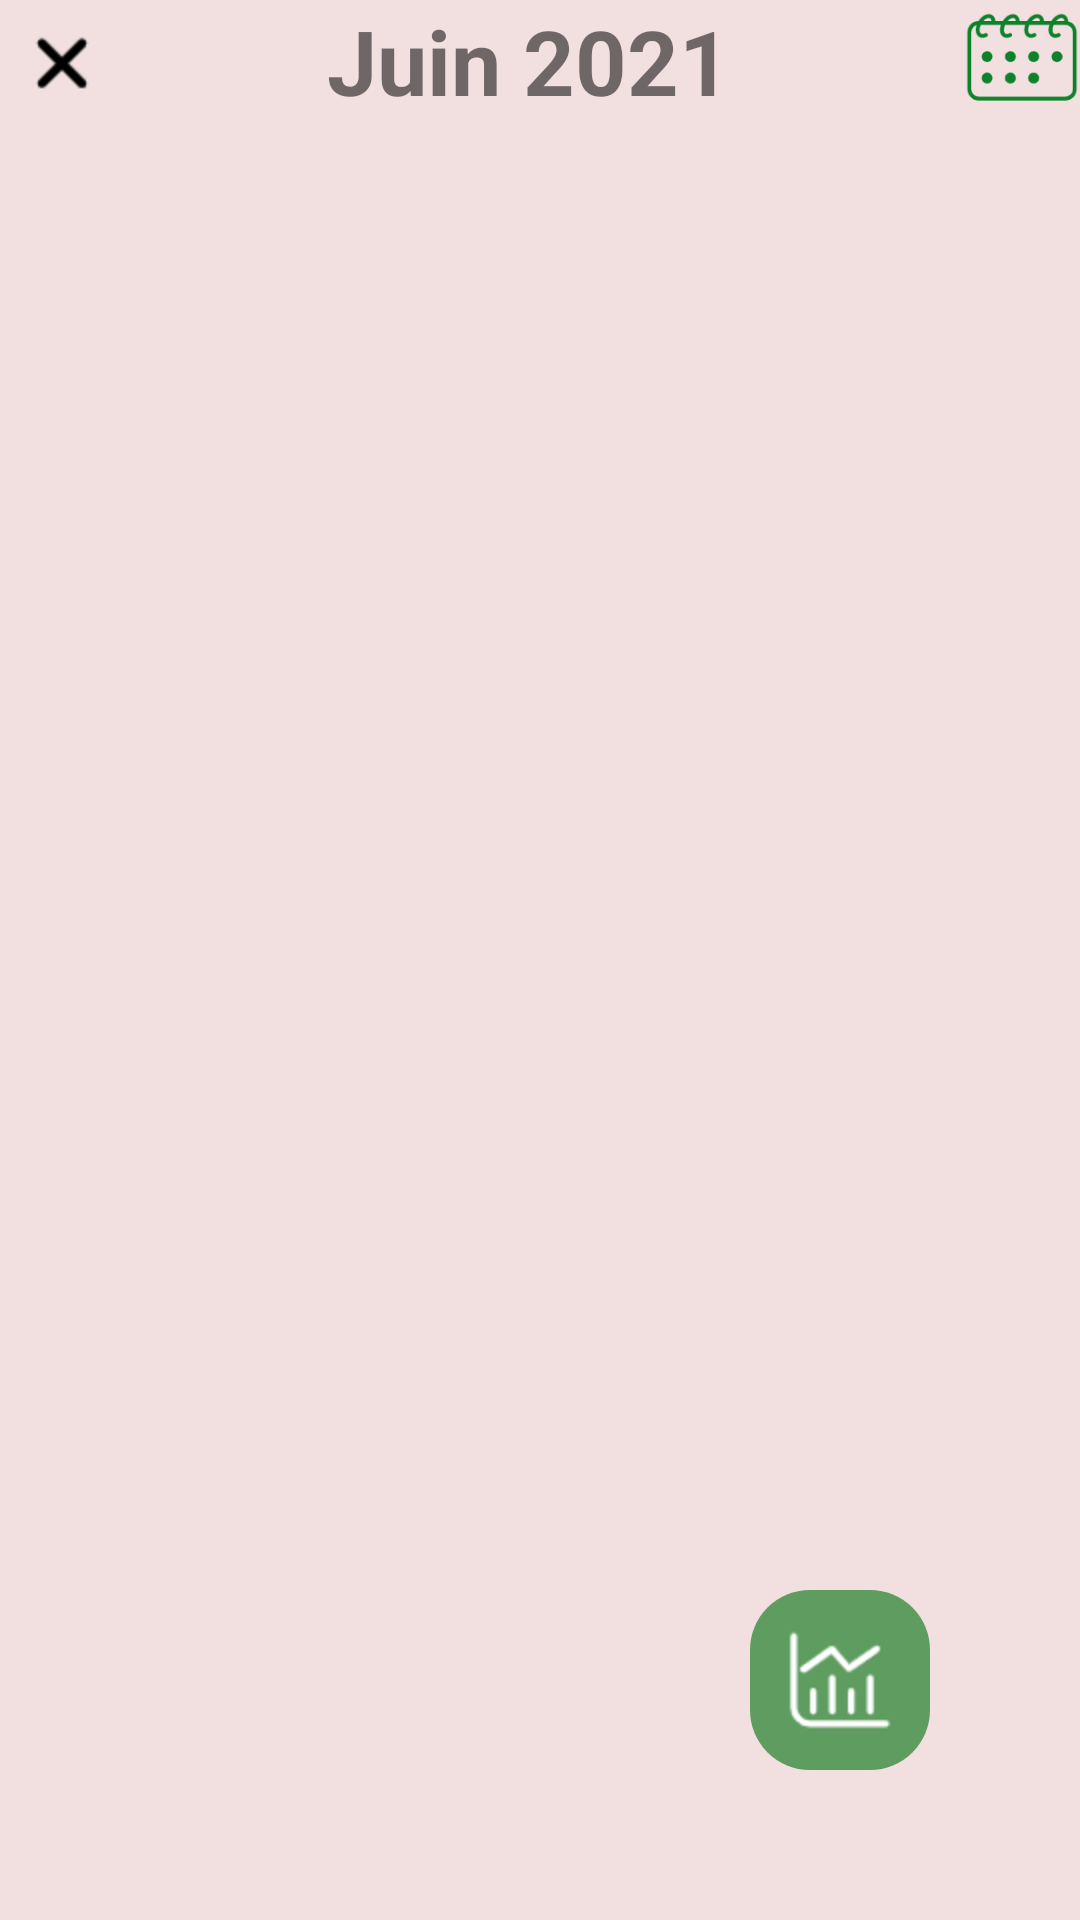

Icon bounding boxes for this 1080×1920 phone screenshot, format (x1, y1, x2, y2):
calendar: (967, 13, 1077, 101)
chart: (750, 1590, 930, 1770)
cross: (36, 37, 88, 89)
